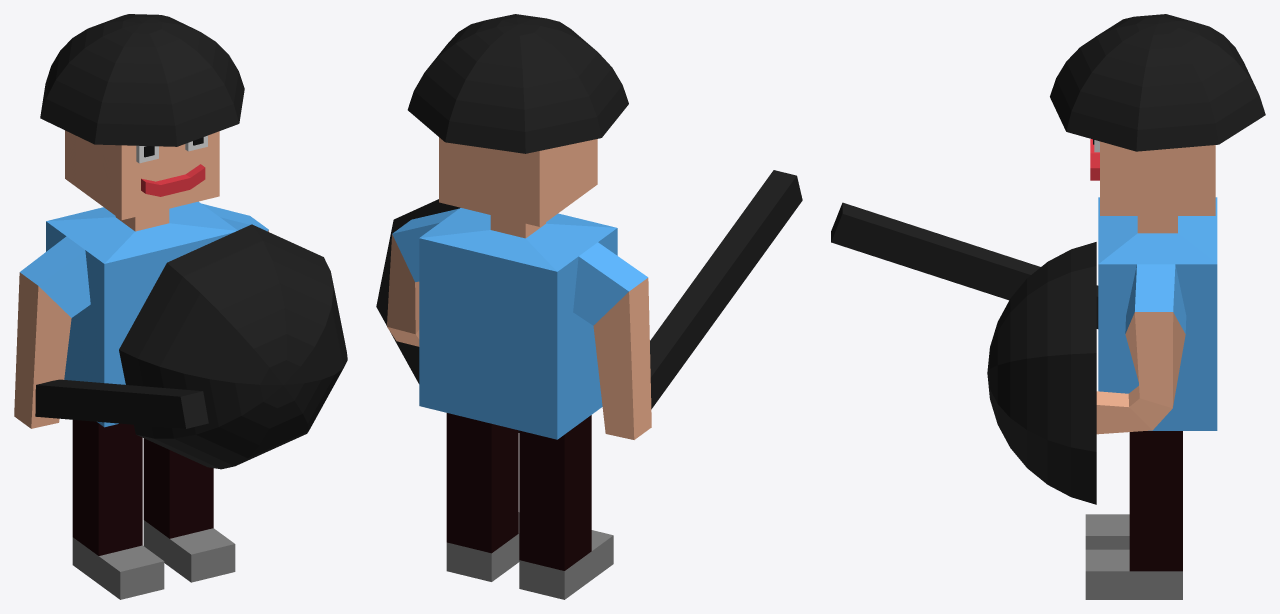
Rendered from warrior.fbx.
3 views of the same model, side by side, from view 1: azimuth 30°, elevation 25°; view 2: azimuth 150°, elevation 25°; view 3: azimuth 270°, elevation 25° (orthographic). The views are drawn at different scales.
Parts seen in each view (by area): view 1: warrior; view 2: warrior; view 3: warrior.
Boxes of the visible parts, bbox=[...] form: warrior: bbox=[14, 14, 347, 599]; warrior: bbox=[376, 14, 802, 599]; warrior: bbox=[831, 14, 1265, 599].
Bounding box in the file's own units: 0.8837 × 1.57 × 1.13.
